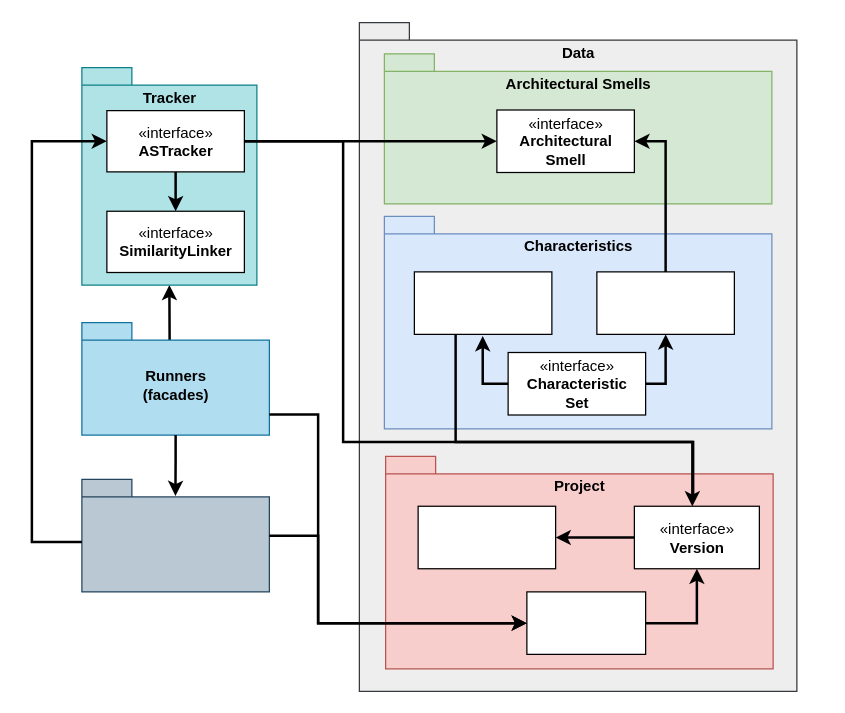
Some shapes in this 845 by 713 pixel diagram are drawn without their labels. The shapes that lost their labels are listed below. From the top down, each one's centre as x and y in pixels, then its label:
(x=482, y=302): «interface» Component Characteristic
(x=665, y=302): «interface» Smell Characteristic
(x=175, y=535): Persistence (output data writers)
(x=486, y=537): «interface» Source Code Retriever
(x=586, y=622): «interface» Project
